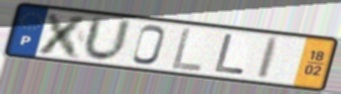0: (131, 24, 168, 66)
I: (254, 35, 283, 81)
L: (169, 26, 206, 74), (212, 33, 248, 77)
U: (80, 14, 135, 64)
X: (34, 10, 93, 61)
